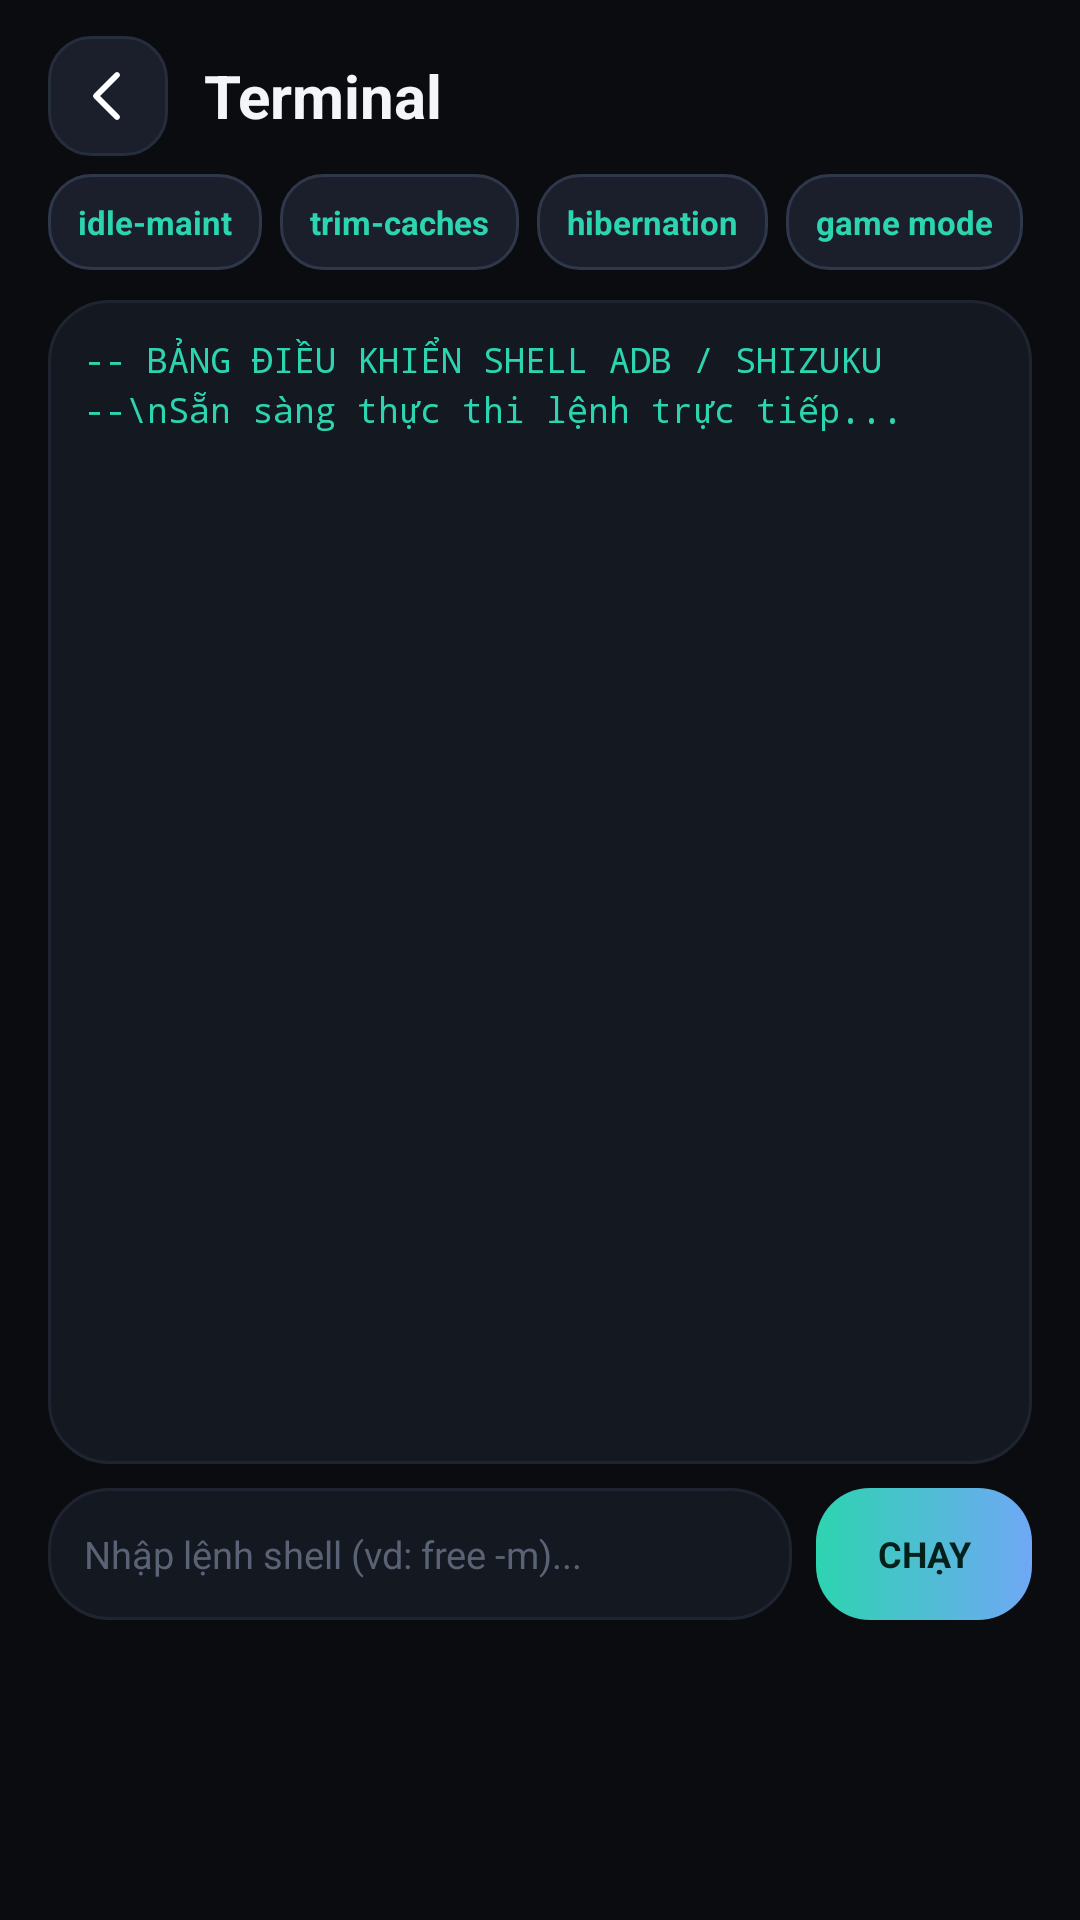

Where icons sit on this 1080×1920 app screen, as (x1, y1, x2, y2):
Quay lại: (48, 36, 168, 156)
